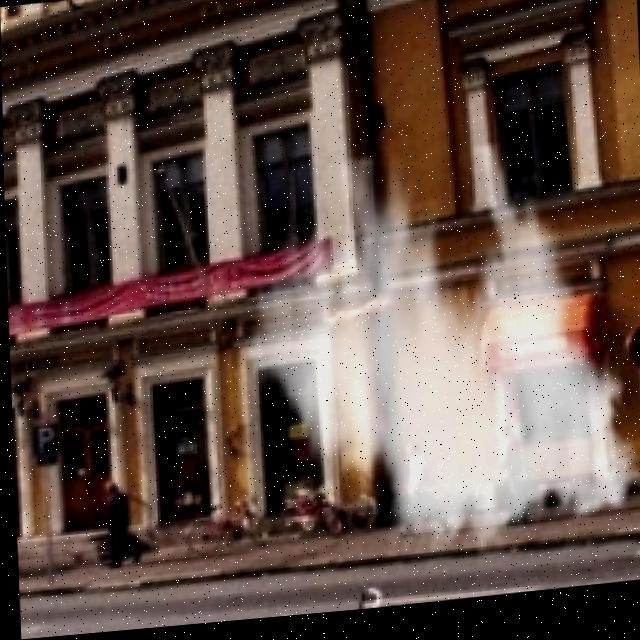Smoke: (224, 137, 640, 590)
